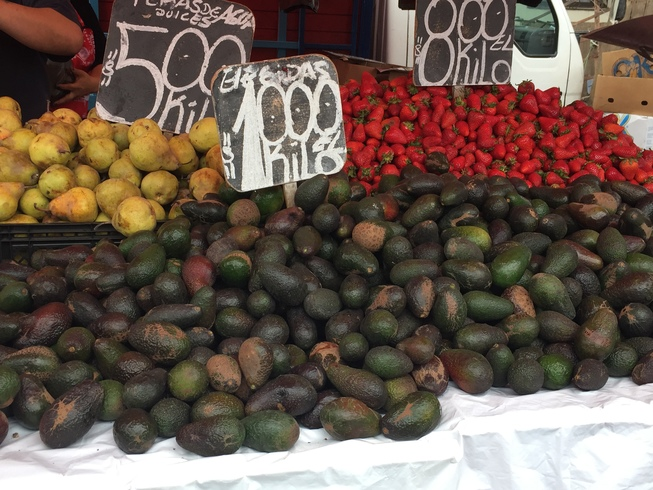precio: (87, 1, 259, 134), (205, 56, 360, 191), (410, 1, 512, 87)
